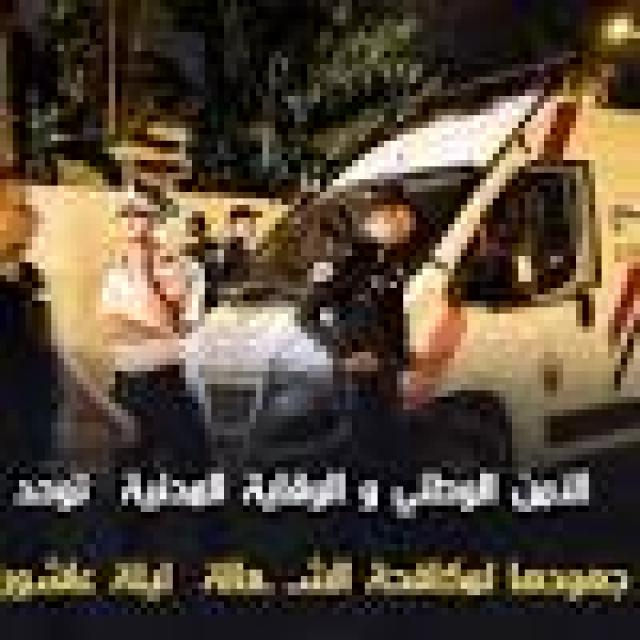pompier: (201, 62, 640, 469)
